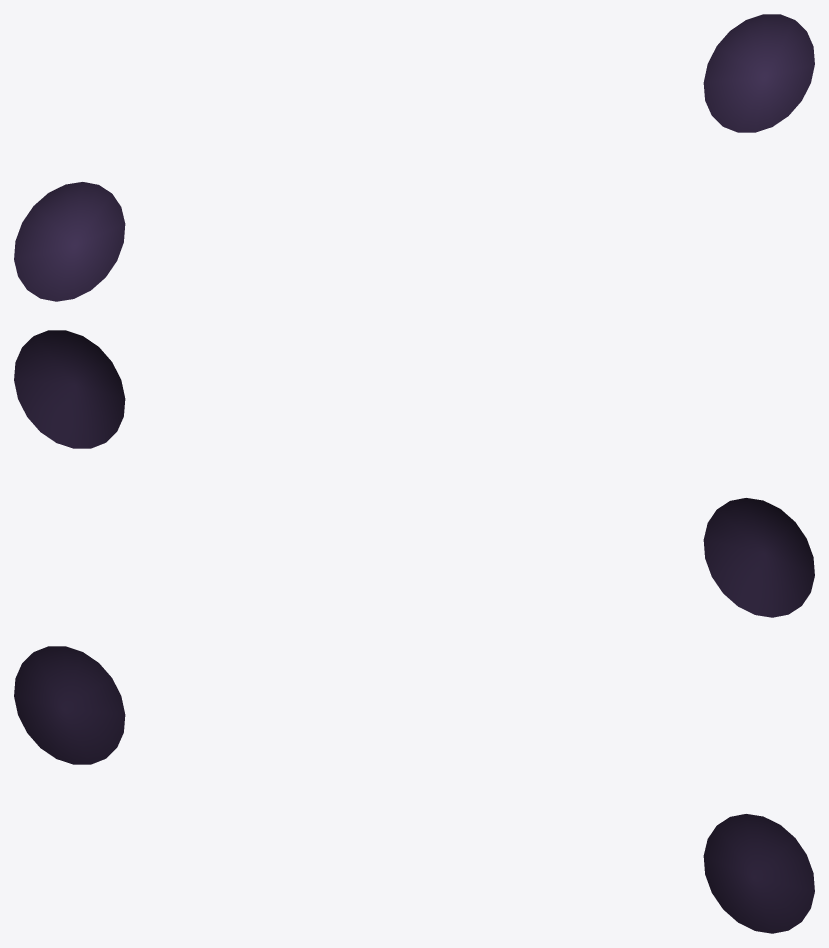
Rendered from MX5_RoundPopUp_Detail.fbx.
3 views of the same model, one above another, from view 1: azimuth 30°, elevation 25°; view 2: azimuth 150°, elevation 25°; view 3: azimuth 330°, elevation 25° (orthographic).
Parts seen in each view (by area): view 1: MX5_RoundPopUp_Detail; view 2: MX5_RoundPopUp_Detail; view 3: MX5_RoundPopUp_Detail.
Part boxes in pixels (box(x1,y1,x2,y2)): MX5_RoundPopUp_Detail: box(14, 14, 814, 301); MX5_RoundPopUp_Detail: box(14, 330, 814, 617); MX5_RoundPopUp_Detail: box(14, 646, 814, 933).
Size of the model in its own units: 113 by 15.66 by 1.34.
